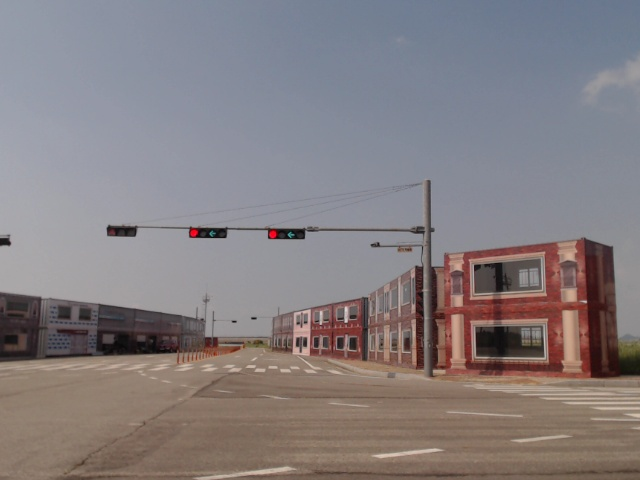left_green_4: (189, 228, 227, 239), (268, 230, 304, 239)
